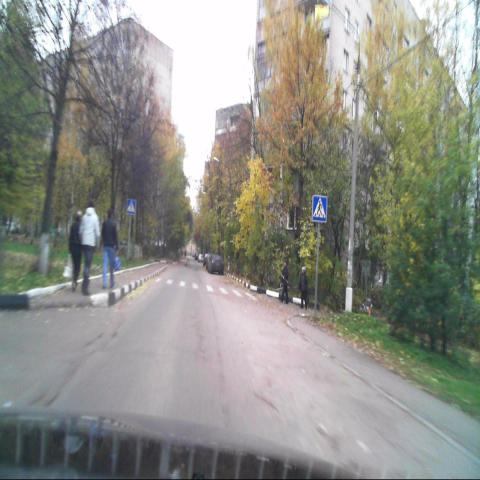5_19_1: (311, 195, 327, 222), (126, 199, 134, 213)
